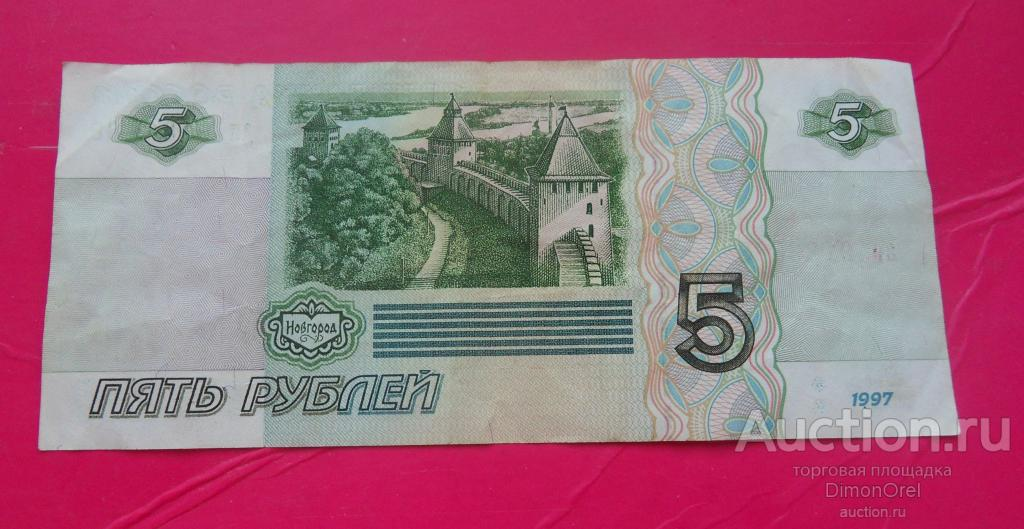cash: (38, 59, 962, 449)
